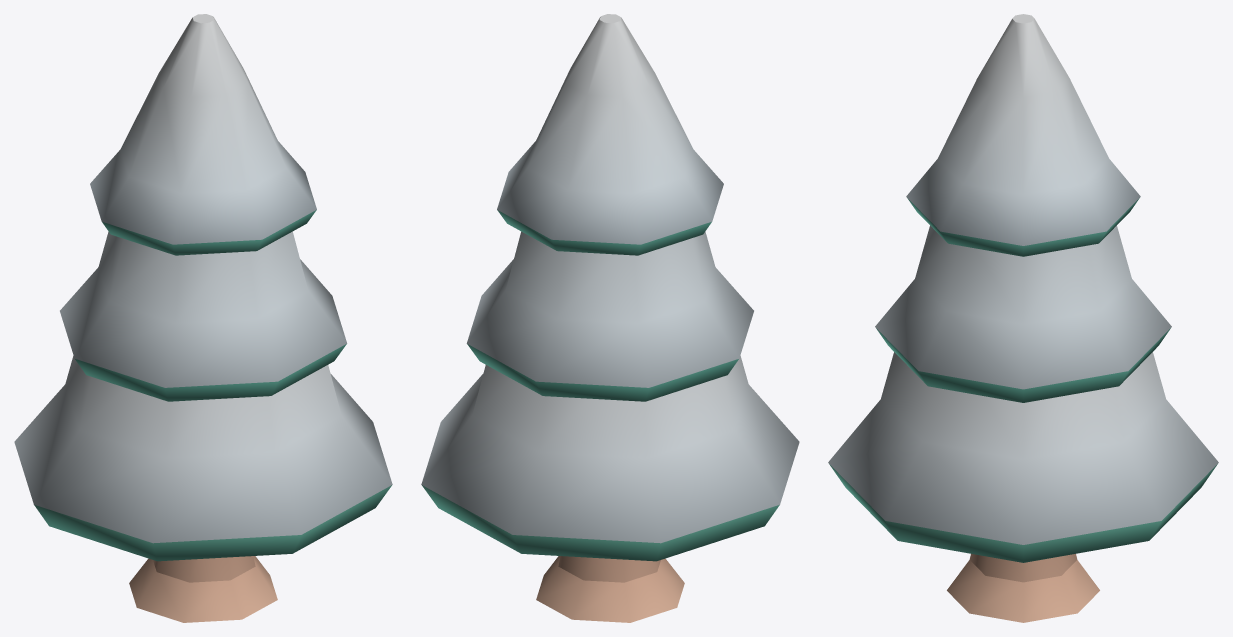
The model's file is tree_snow_c.glb.
The picture shows the model from 3 angles, left to right: view 1: azimuth 30°, elevation 25°; view 2: azimuth 150°, elevation 25°; view 3: azimuth 270°, elevation 25°; orthographic projection.
Parts seen in each view (by area): view 1: tree_snow_c; view 2: tree_snow_c; view 3: tree_snow_c.
Boxes of the visible parts, x1=… form: tree_snow_c: x1=14, y1=14, x2=392, y2=622; tree_snow_c: x1=421, y1=14, x2=799, y2=622; tree_snow_c: x1=828, y1=14, x2=1218, y2=622.
Bounding box in the file's own units: 40.9 × 66 × 40.9.
